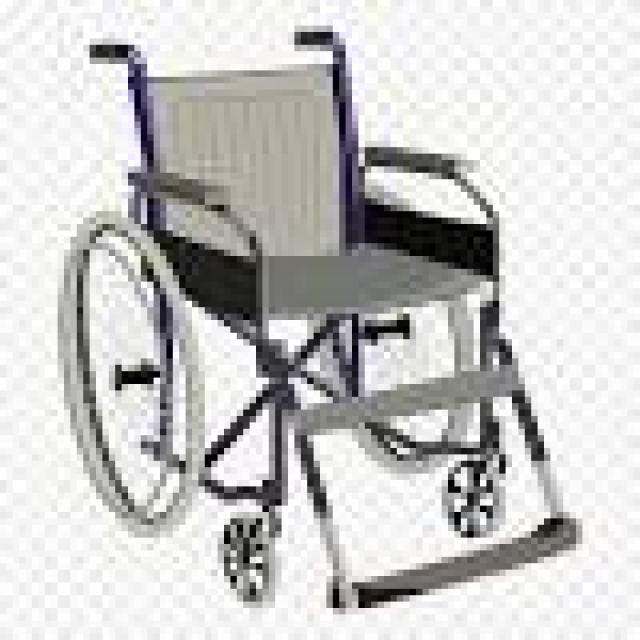wheelchairs: (64, 25, 595, 620)
